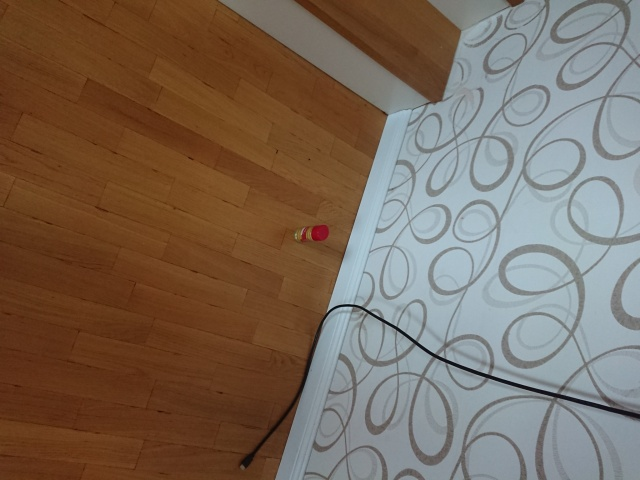Kotanyi Curry Spices Mix 70g: (293, 223, 330, 244)
